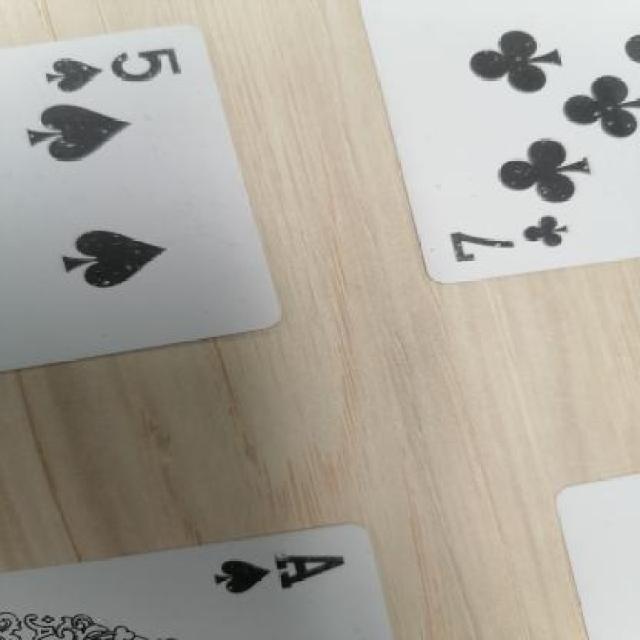5S: (37, 32, 191, 97)
7C: (438, 211, 573, 272)
AS: (190, 528, 368, 609)
